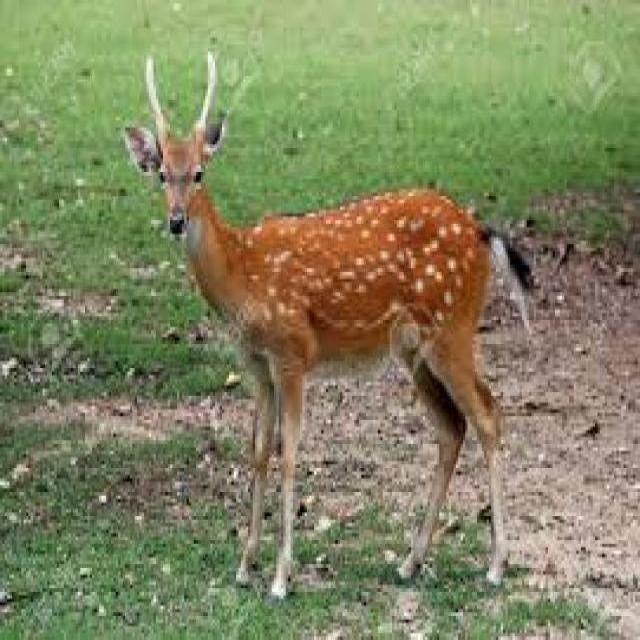deer: (100, 44, 554, 600)
